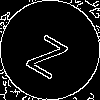Z: (25, 25, 75, 80)
